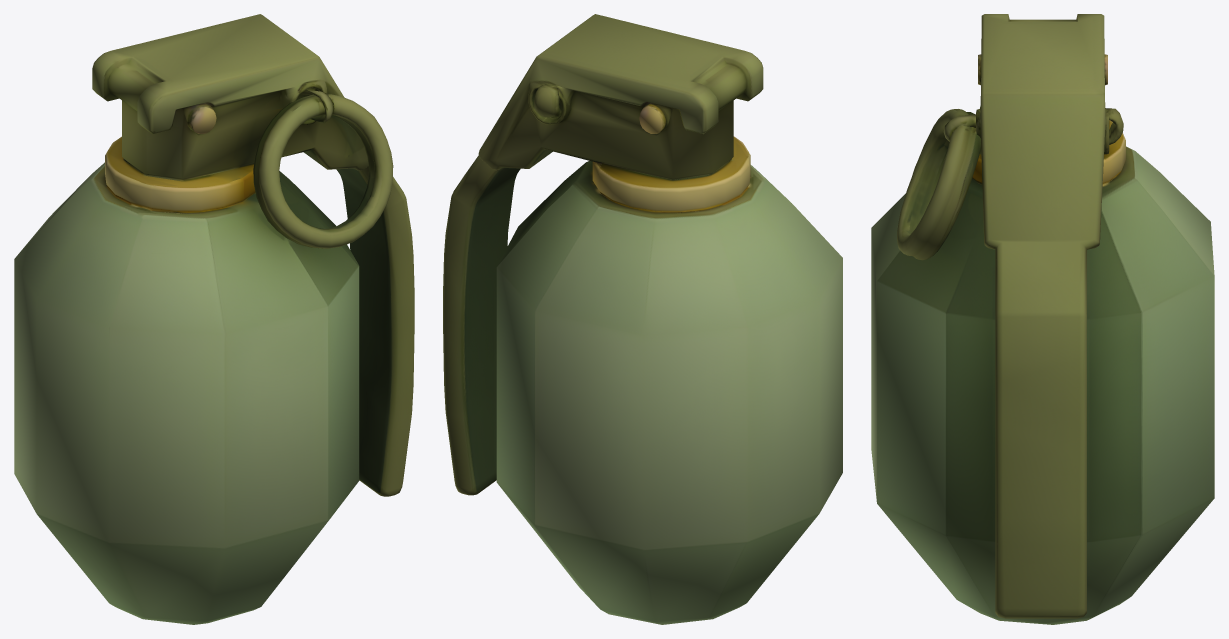
The model's file is frag_grenade.glb.
The picture shows the model from 3 angles, left to right: view 1: azimuth 30°, elevation 25°; view 2: azimuth 150°, elevation 25°; view 3: azimuth 270°, elevation 25°; orthographic projection. The views are drawn at different scales.
Visible parts, largest first — view 1: material; view 2: material; view 3: material.
Boxes of the visible parts, x1,y1,x2,y2 form: material: [14, 14, 414, 624]; material: [443, 14, 842, 624]; material: [871, 14, 1214, 624].
Size of the model in its own units: 1.34 by 1.9 by 1.08.
1 material, 1 textured.
